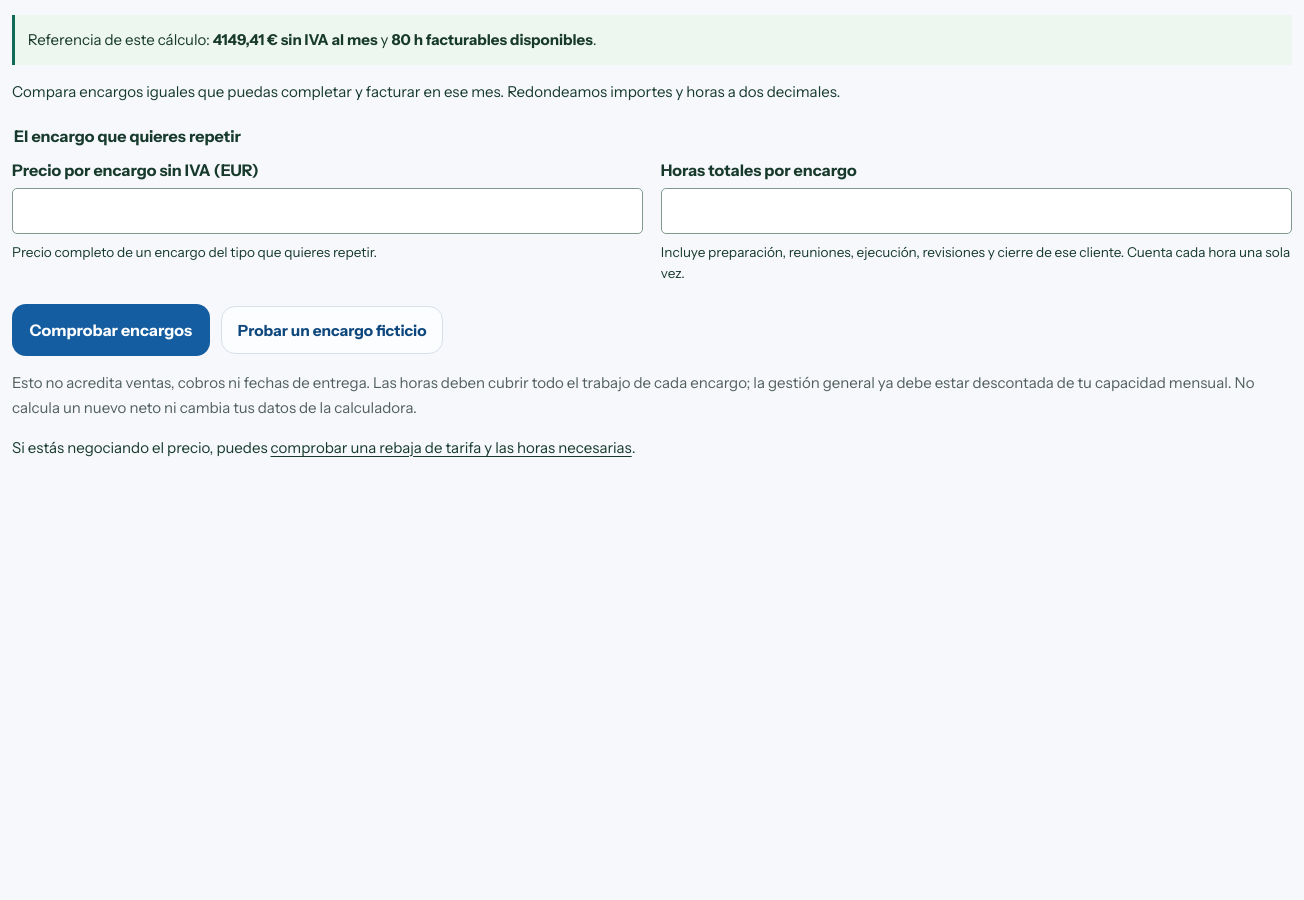
Test case: monthly project capacity planner › marks the fictional example and clears an old plan when effort changes
The image size is (1304, 900).
Click the button "Probar un encargo ficticio": coordinates (332, 330) [221,306,443,354]
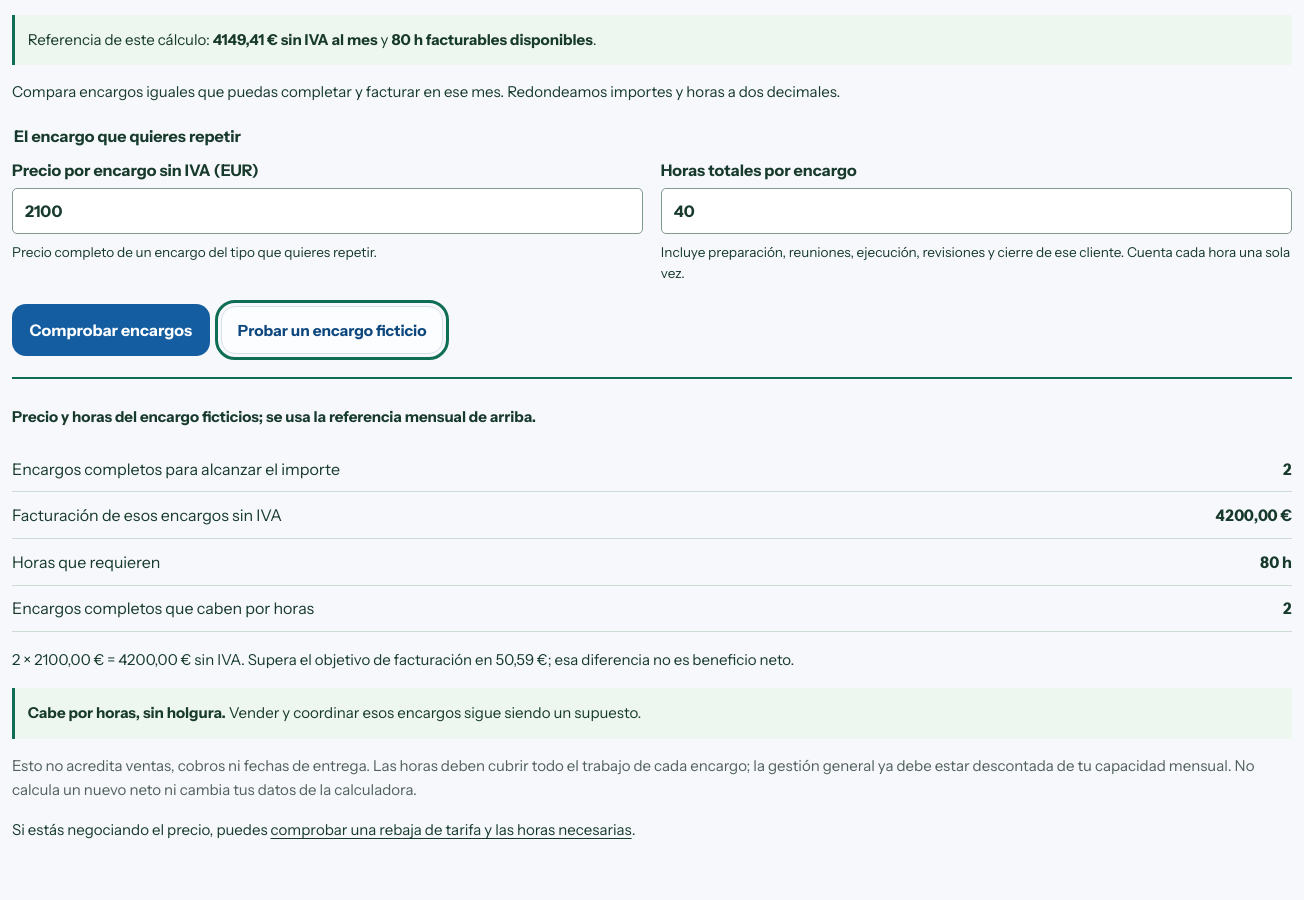
Now the message shows "Precio y horas del encargo ficticios", box [12,407,536,426]
Now the message shows "4200,00", box [1215,505,1292,525]
Now the message shows "Cabe por horas, sin holgura", box [28,703,226,722]
Replace the text in the field labelled "Horas totales por encargo" with "60": coordinates (976, 212) [661,188,1292,234]
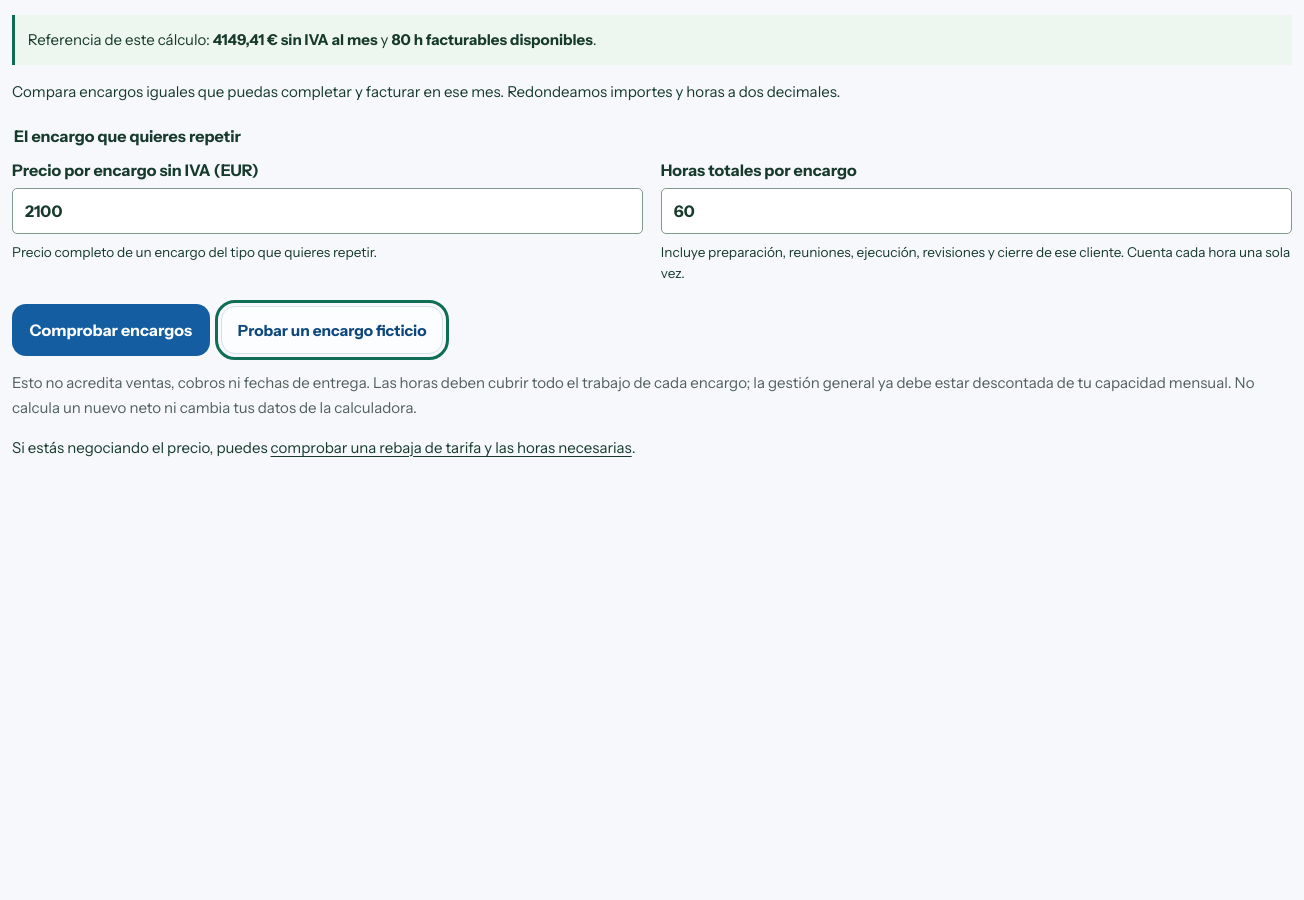
Click the button "Comprobar encargos": coordinates (111, 330) [12,304,210,356]
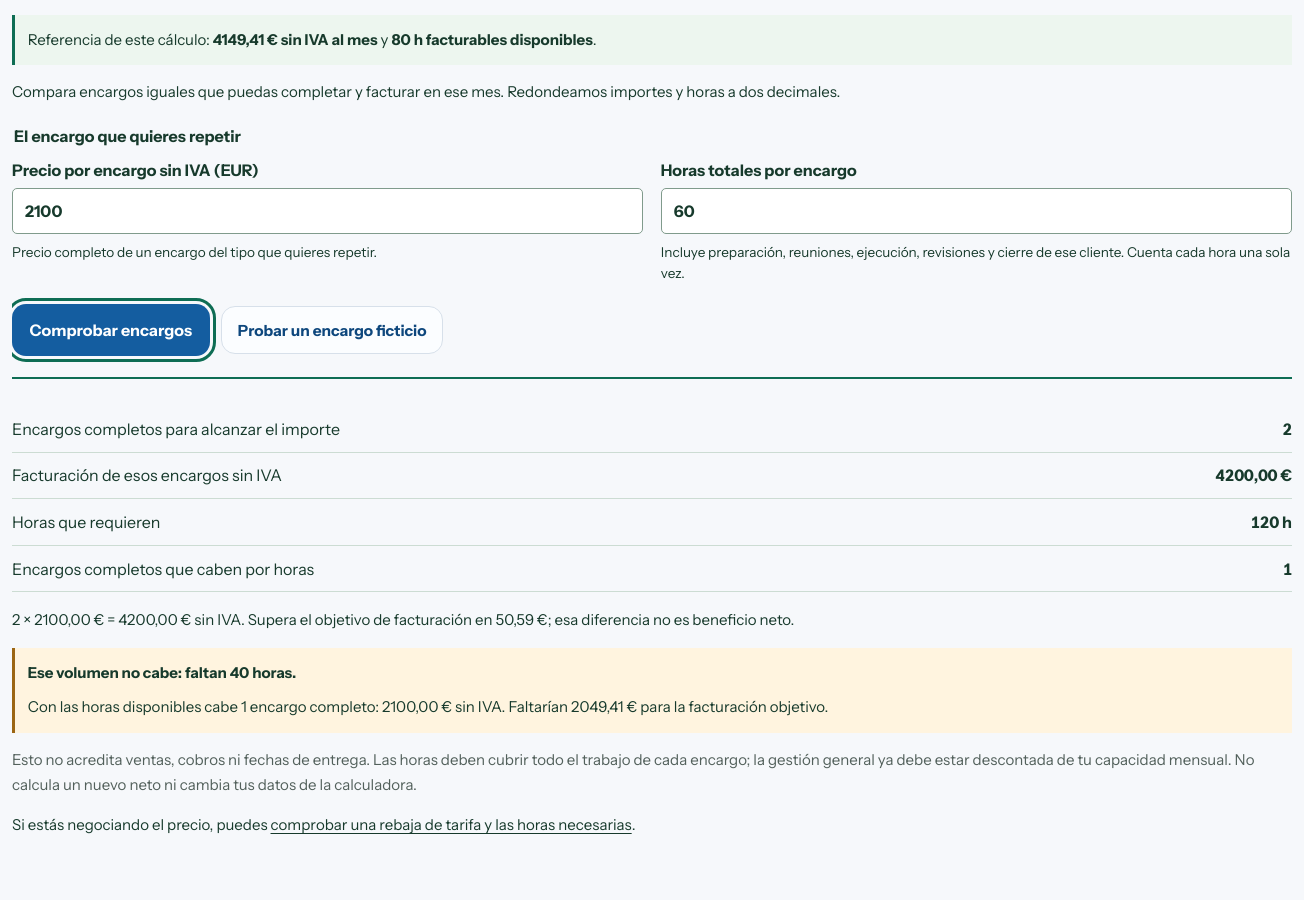
Now the message shows "Ese volumen no cabe: faltan 40 horas", box [12,377,1292,733]
Now the message shows "2049,41", box [571,698,637,716]
